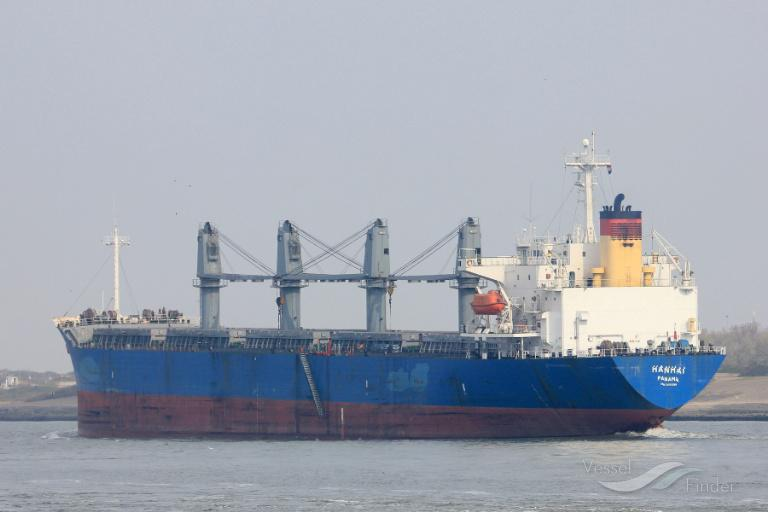OCR: (644, 356, 694, 396)
